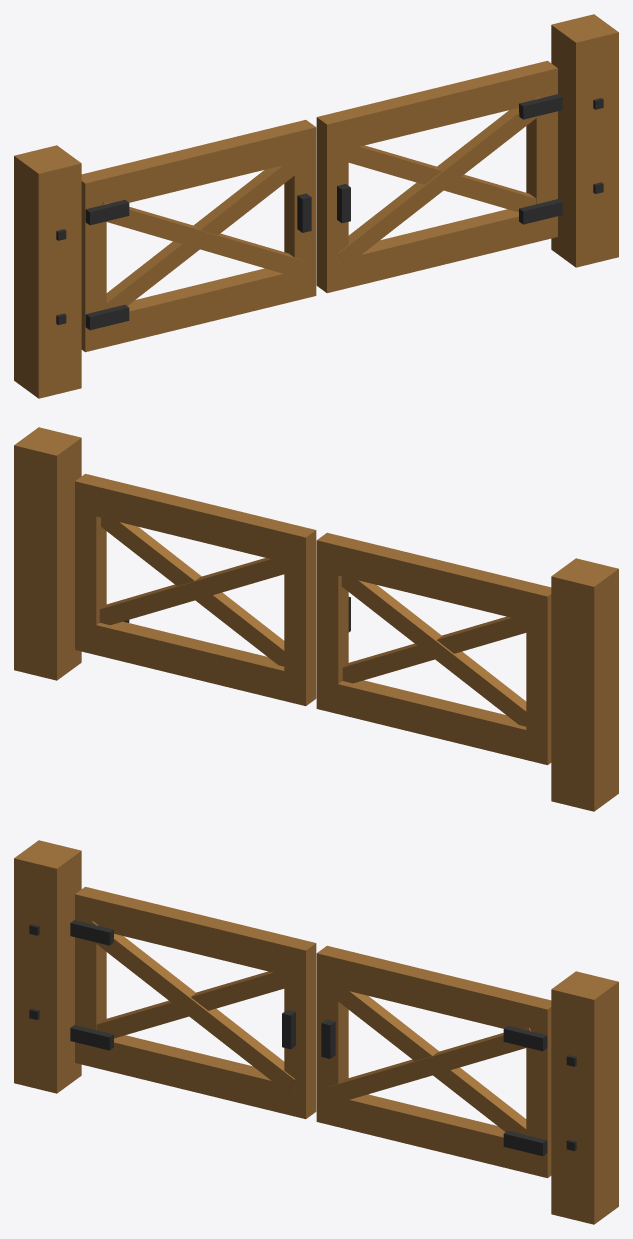
File: Fence_Gate_3m.fbx
3 views of the same model, one above another, from view 1: azimuth 30°, elevation 25°; view 2: azimuth 150°, elevation 25°; view 3: azimuth 330°, elevation 25° (orthographic).
Visible parts, largest first — view 1: Gate3_Leaf_1, Gate3_Leaf_0, Gate3_Post_0, Gate3_Post_3; view 2: Gate3_Leaf_1, Gate3_Leaf_0, Gate3_Post_0, Gate3_Post_3; view 3: Gate3_Leaf_0, Gate3_Leaf_1, Gate3_Post_3, Gate3_Post_0.
Boxes of the visible parts, <box> form: Gate3_Leaf_1: <box>316,60,562,293</box>; Gate3_Leaf_0: <box>81,119,316,352</box>; Gate3_Post_0: <box>14,145,81,398</box>; Gate3_Post_3: <box>551,14,618,267</box>; Gate3_Leaf_1: <box>75,473,316,706</box>; Gate3_Leaf_0: <box>316,532,551,765</box>; Gate3_Post_0: <box>551,558,618,811</box>; Gate3_Post_3: <box>14,427,81,680</box>; Gate3_Leaf_0: <box>70,886,316,1119</box>; Gate3_Leaf_1: <box>316,945,551,1178</box>; Gate3_Post_3: <box>551,971,618,1224</box>; Gate3_Post_0: <box>14,840,81,1093</box>.
Size of the model in its own units: 3.24 by 1.2 by 0.2595.
